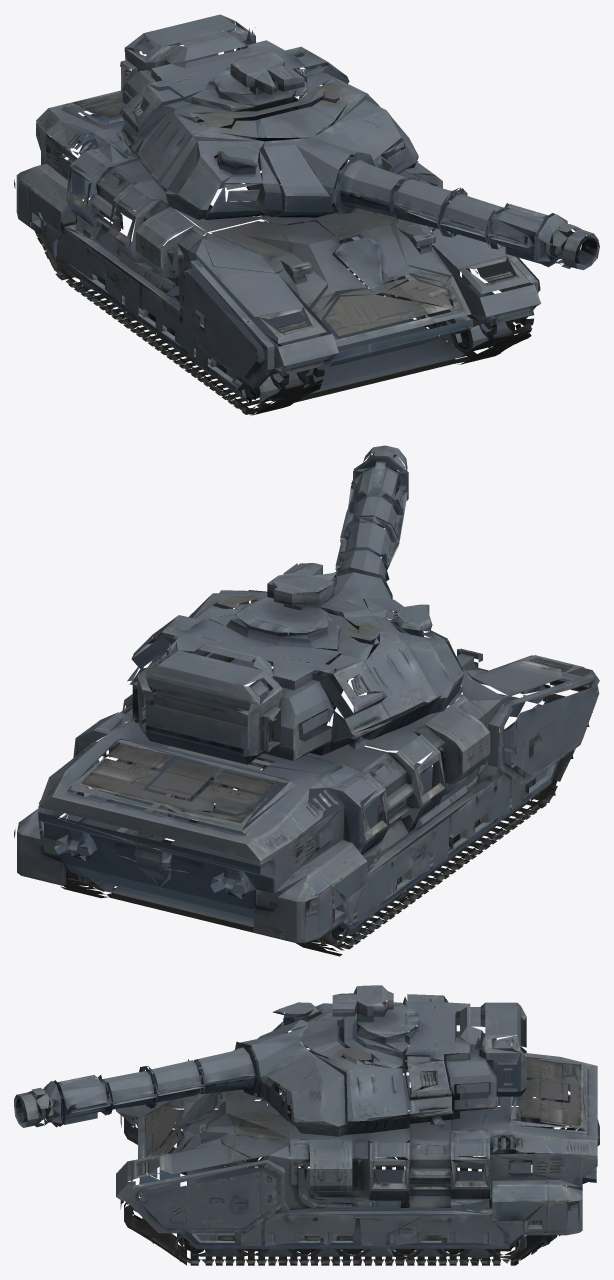
The model's file is devastator_LOD1.glb.
The picture shows the model from 3 angles, top to bottom: view 1: azimuth 30°, elevation 25°; view 2: azimuth 150°, elevation 25°; view 3: azimuth 270°, elevation 25°; orthographic projection. The views are drawn at different scales.
Parts seen in each view (by area): view 1: devastator_LOD1; view 2: devastator_LOD1; view 3: devastator_LOD1.
Part boxes in pixels (x1,y1,x2,y2): devastator_LOD1: [14, 14, 599, 415]; devastator_LOD1: [14, 445, 599, 956]; devastator_LOD1: [14, 985, 599, 1265].
Bounding box in the file's own units: 0.4951 × 0.4071 × 1.
Materials: 1 (1 with a texture image).
